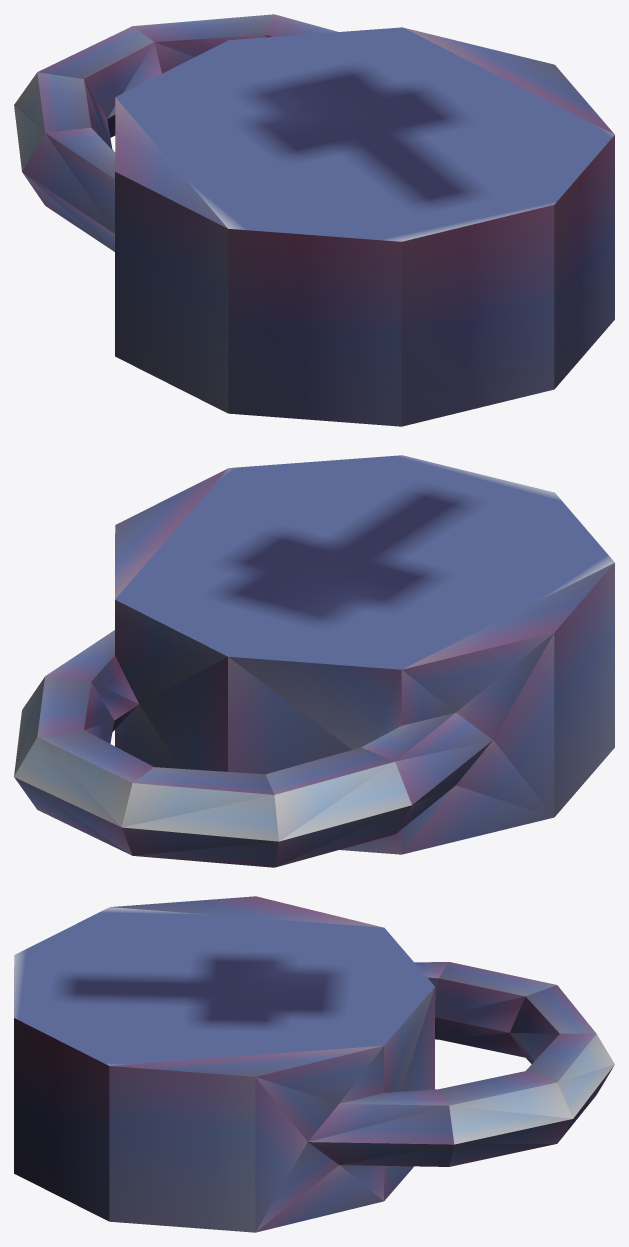
The model's file is lock.fbx.
3 views of the same model, one above another, from view 1: azimuth 30°, elevation 25°; view 2: azimuth 150°, elevation 25°; view 3: azimuth 270°, elevation 25° (orthographic). The views are drawn at different scales.
Visible parts, largest first — view 1: lock; view 2: lock; view 3: lock.
Boxes of the visible parts, bbox=[...] form: lock: bbox=[14, 14, 614, 426]; lock: bbox=[14, 455, 614, 867]; lock: bbox=[14, 896, 614, 1232].
Size of the model in its own units: 86.07 by 34.6 by 121.
